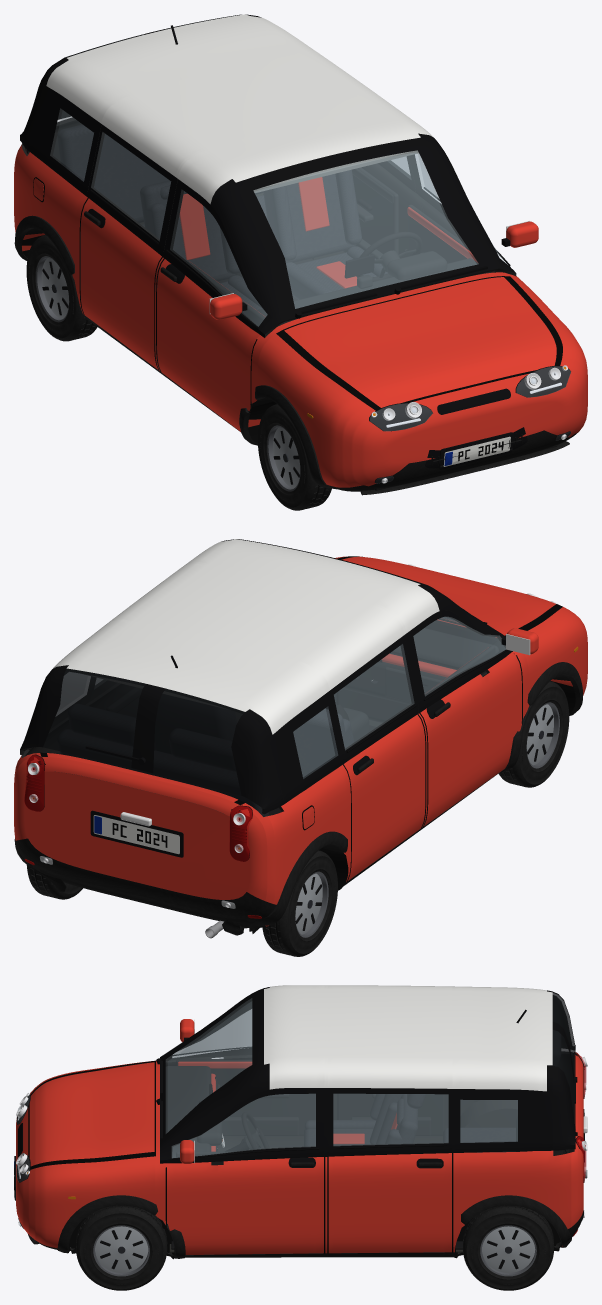
Rendered from pico.glb.
The picture shows the model from 3 angles, top to bottom: view 1: azimuth 30°, elevation 25°; view 2: azimuth 150°, elevation 25°; view 3: azimuth 270°, elevation 25°; orthographic projection. The views are drawn at different scales.
Visible parts, largest first — view 1: pico, hood, door_FR, door_RR, seat_driver, seat_passenger, seat_rear, popout_RR, wheel_FR, wheel_RR, door_card_RL, door_FL (+4 smaller); view 2: pico, tailgate, door_FR, door_RR, seat_rear, hood, popout_RR, wheel_RR, wheel_FR, seat_driver, seat_passenger, dash_glovebox (+3 smaller); view 3: pico, door_FL, door_RL, hood, wheel_FL, wheel_RL, popout_RL, tailgate, door_card_FR, door_FR, seat_passenger, door_card_RR (+4 smaller).
Boxes of the visible parts, bbox=[...] form: pico: bbox=[14, 14, 587, 495]; hood: bbox=[284, 277, 556, 407]; door_FR: bbox=[155, 179, 271, 445]; door_RR: bbox=[80, 124, 174, 369]; seat_driver: bbox=[263, 170, 387, 299]; seat_passenger: bbox=[140, 180, 262, 309]; seat_rear: bbox=[57, 124, 267, 226]; popout_RR: bbox=[91, 132, 170, 241]; wheel_FR: bbox=[258, 404, 331, 510]; wheel_RR: bbox=[26, 235, 97, 341]; door_card_RL: bbox=[343, 167, 398, 259]; door_FL: bbox=[411, 153, 538, 272]; pico: bbox=[14, 539, 587, 938]; tailgate: bbox=[20, 668, 283, 826]; door_FR: bbox=[407, 610, 538, 827]; door_RR: bbox=[330, 635, 425, 881]; seat_rear: bbox=[57, 704, 268, 816]; hood: bbox=[341, 556, 555, 635]; popout_RR: bbox=[334, 644, 414, 750]; wheel_RR: bbox=[262, 850, 337, 956]; wheel_FR: bbox=[498, 681, 569, 787]; seat_driver: bbox=[154, 694, 236, 753]; seat_passenger: bbox=[293, 709, 353, 778]; dash_glovebox: bbox=[385, 667, 442, 702]; pico: bbox=[14, 985, 587, 1259]; door_FL: bbox=[163, 1088, 327, 1258]; door_RL: bbox=[328, 1088, 455, 1253]; hood: bbox=[29, 1062, 154, 1166]; wheel_FL: bbox=[76, 1205, 167, 1290]; wheel_RL: bbox=[463, 1205, 553, 1290]; popout_RL: bbox=[333, 1093, 448, 1145]; tailgate: bbox=[552, 992, 587, 1150]; door_card_FR: bbox=[176, 1059, 315, 1135]; door_FR: bbox=[167, 1005, 303, 1148]; seat_passenger: bbox=[304, 1094, 402, 1146]; door_card_RR: bbox=[337, 1093, 444, 1135].
Size of the model in its own units: 1.96 by 1.58 by 3.59.
67 materials, 6 textured.
